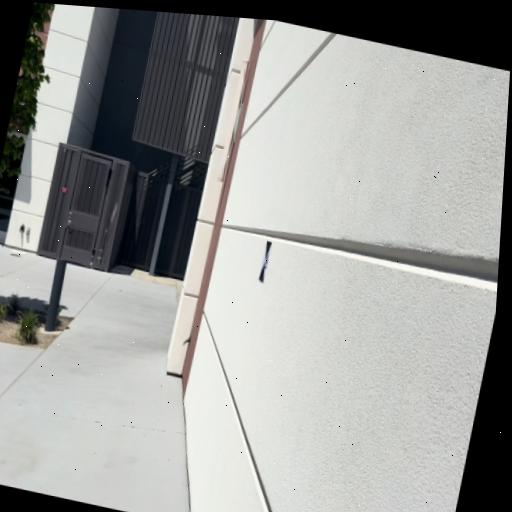target4: (259, 241, 272, 284)
